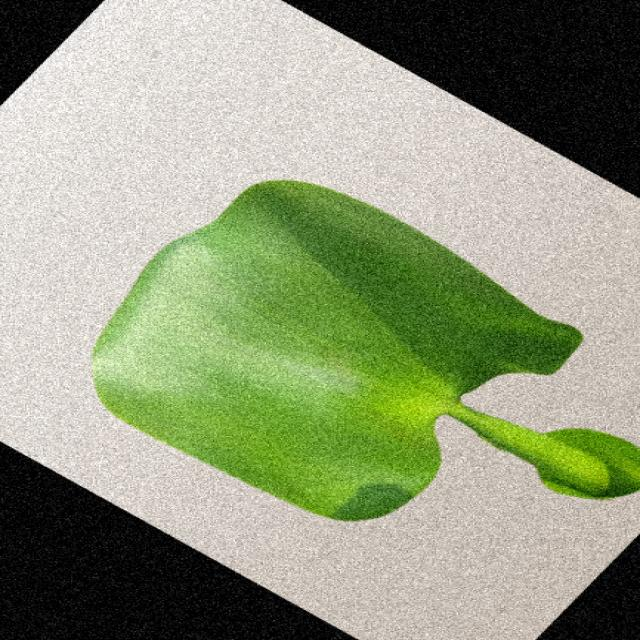daun sehat: (95, 181, 638, 521)
